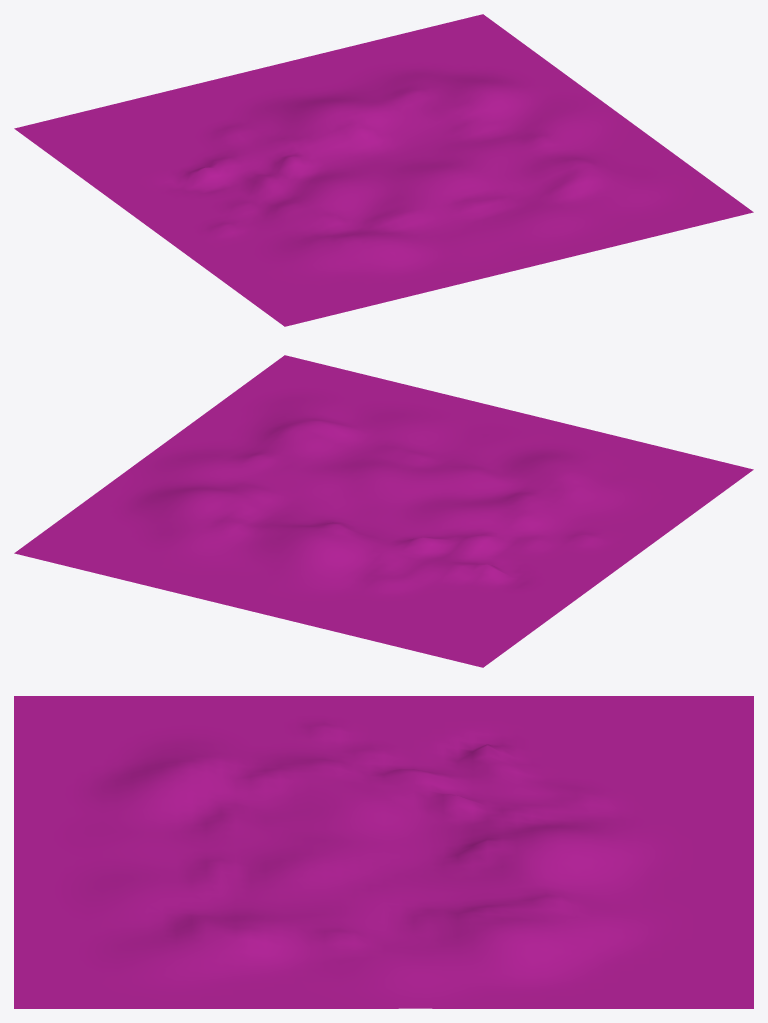
The model's file is Sandbox_Sand.FBX.
3 renders of one model, top to bottom at view 1: azimuth 30°, elevation 25°; view 2: azimuth 150°, elevation 25°; view 3: azimuth 270°, elevation 25°, orthographic. The views are drawn at different scales.
Parts seen in each view (by area): view 1: Sandbox_Sand_5000; view 2: Sandbox_Sand_5000; view 3: Sandbox_Sand_5000.
Boxes of the visible parts, <box> form: Sandbox_Sand_5000: <box>14,14,753,326</box>; Sandbox_Sand_5000: <box>14,355,753,667</box>; Sandbox_Sand_5000: <box>14,696,753,1008</box>.
Bounding box in the file's own units: 2500 × 93.83 × 2500.
